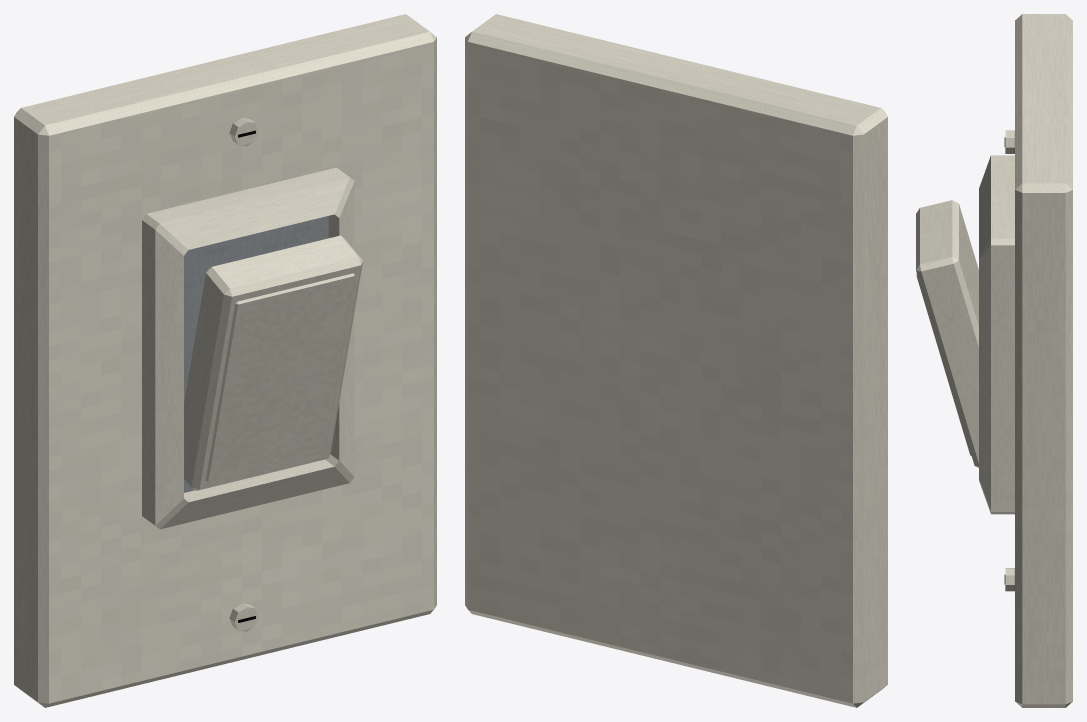
File: wall_switch.glb
3 views of the same model, side by side, from view 1: azimuth 30°, elevation 25°; view 2: azimuth 150°, elevation 25°; view 3: azimuth 270°, elevation 25° (orthographic). The views are drawn at different scales.
Visible parts, largest first — view 1: switch, lever; view 2: switch; view 3: switch, lever.
Part boxes in pixels (x1,y1,x2,y2): switch: (14,14,436,707); lever: (184,235,362,490); switch: (465,14,887,707); switch: (979,14,1072,707); lever: (916,200,978,467).
Bounding box in the file's own units: 0.086 × 0.12 × 0.0325.
Materials: 1 (1 with a texture image).
